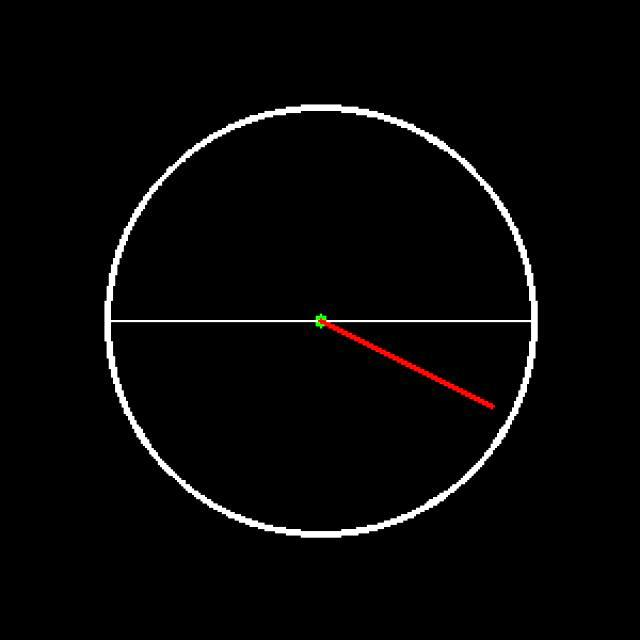Needle_Tip: (465, 383, 506, 430)
Needle_base: (285, 299, 358, 361)
